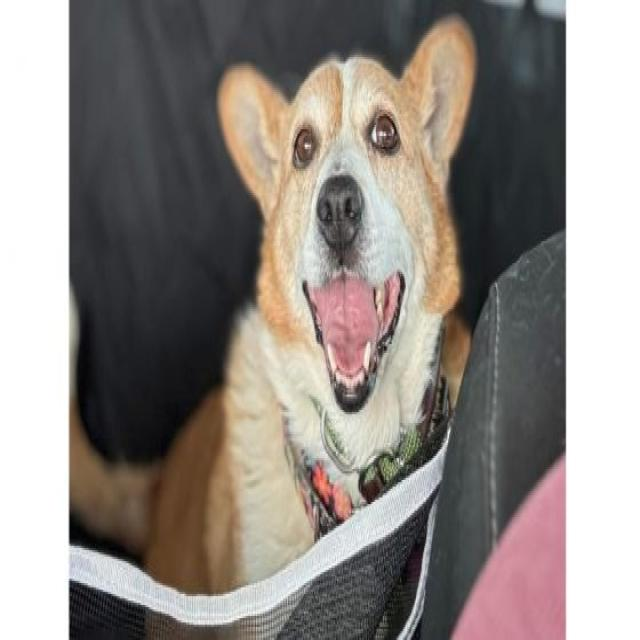corgi_dog: (203, 9, 495, 478)
